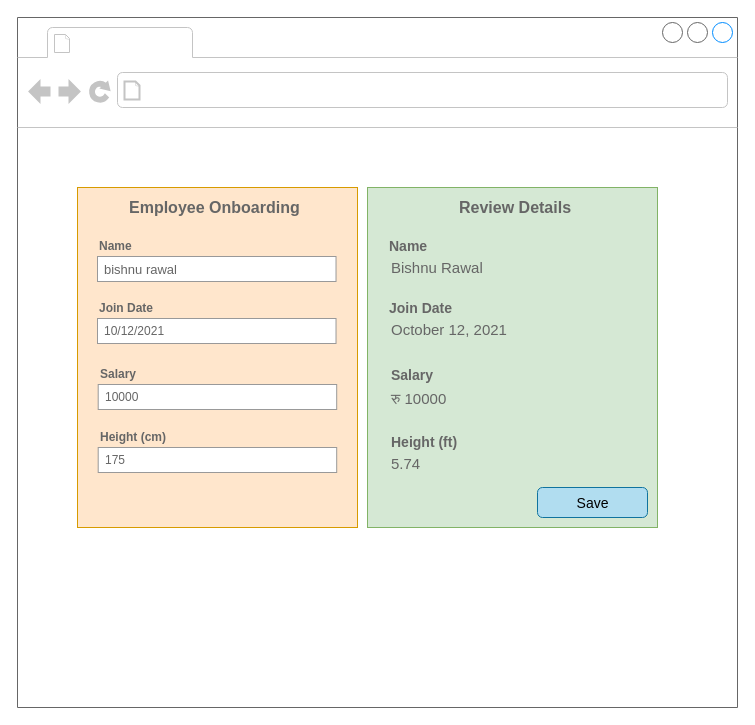
The diagram is 755 pixels wide and 725 high, and some of its shapes have lost their labels. Each missing label, with the centre of its shape:
https://www.draw.io: the point at 272,90
Page 1: the point at 132,42
